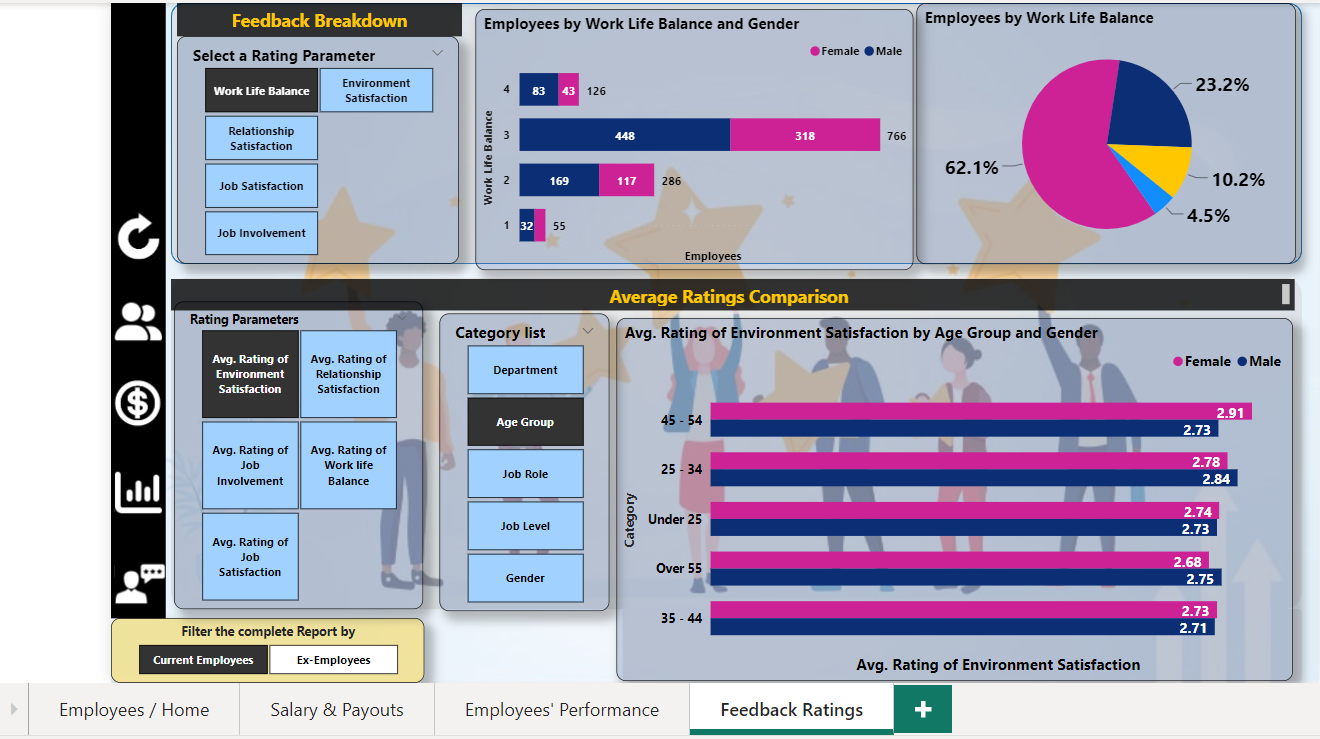

Layout of this report page (visuals, bound fields, positions):
{"tool":"powerbi","page":{"name":"Feedback Ratings","canvas":[1280,720],"ordinal":3},"visuals":[{"type":"shape","box":[0,0,58.2,652],"z":0,"group":"g4"},{"type":"shape","box":[62,3.2,1198.3,276.7],"z":0,"group":"g3"},{"type":"slicer","fields":{"Values":["Set of Rating Matrices.Set of Rating Matrices"]},"box":[68.8,38.1,298.8,241.6],"z":0,"group":"g2"},{"type":"actionButton","box":[0,215.2,58.2,64.7],"z":0,"group":"g1"},{"type":"slicer","title":"Filter the complete Report by","fields":{"Values":["Employees.attrition label"]},"box":[0,651.7,331.7,68.3],"z":0},{"type":"textbox","box":[68.6,3.2,301.7,35],"z":1000,"group":"g3"},{"type":"pieChart","fields":{"Category":["Ratings.Work Life Balance (Rating)"],"Y":["Measures Table.#1 Total Employees"]},"box":[862.2,15,400.5,271.8],"z":1000,"group":"g2"},{"type":"group","id":"g1","title":"Group 6","box":[0,215.2,69.6,432],"z":1000,"group":"g4"},{"type":"actionButton","box":[0,309,58.2,58.2],"z":1000,"group":"g1"},{"type":"shape","box":[542.3,642.6,720,76.7],"z":1000,"group":"g5"},{"type":"group","id":"g2","title":"Group 1","box":[68.8,9.2,1193.9,277.6],"z":2000,"group":"g3"},{"type":"barChart","fields":{"Category":["Ratings.Work Life Balance (Rating)"],"Y":["Measures Table.#1 Total Employees"],"Series":["Employees.Gender"]},"box":[385.4,9.2,464.1,276.6],"z":2000,"group":"g2"},{"type":"shape","box":[64,290.9,1198.3,351.7],"z":2000,"group":"g5"},{"type":"actionButton","box":[0,396.4,58.2,56.6],"z":2000,"group":"g1"},{"type":"actionButton","box":[0,482.2,58.2,74.4],"z":3000,"group":"g1"},{"type":"group","id":"g3","title":"Feedback Breakdown","box":[62,3.2,1200.8,283.6],"z":4000},{"type":"actionButton","box":[0,585.7,69.6,61.5],"z":4000,"group":"g1"},{"type":"slicer","fields":{"Values":["#Parameter- Avg Ratings.#Parameter- Avg Ratings"]},"box":[66.7,316.2,263.8,325.8],"z":5000,"group":"g5"},{"type":"group","id":"g4","title":"Navigation Bar #group","box":[0,0,69.6,652],"z":6000},{"type":"slicer","fields":{"Values":["#Parameter- Category list.#Parameter- Category list"]},"box":[347.2,334,181.2,376.7],"z":7000,"group":"g5"},{"type":"clusteredBarChart","fields":{"Category":["Employees.Department"],"Y":["Measures Table.**Rating avg- Environment Satisfaction"],"Series":["Employees.Gender"]},"box":[542,329,720,389.4],"z":8000,"group":"g5"},{"type":"textbox","box":[63.6,292.3,1190.5,33],"z":9000,"group":"g5"},{"type":"group","id":"g5","title":"Group 2","box":[63.6,290.9,1198.7,428.3],"z":9001}]}

Visuals, with their boxes on the page's 1280x720 design canvas (x1, y1, x2, y2). These are canvas units, not pixel positions in the 1320x739 screenshot, which may show the page scaled, cropped or inside an application window:
shape: (x1=0, y1=0, x2=58, y2=652)
shape: (x1=62, y1=3, x2=1260, y2=280)
slicer - Set of Rating Matrices.Set of Rating Matrices: (x1=69, y1=38, x2=368, y2=280)
actionButton: (x1=0, y1=215, x2=58, y2=280)
"Filter the complete Report by" slicer: (x1=0, y1=652, x2=332, y2=720)
textbox: (x1=69, y1=3, x2=370, y2=38)
pieChart - Ratings.Work Life Balance (Rating) x Measures Table.#1 Total Employees: (x1=862, y1=15, x2=1263, y2=287)
"Group 6" group: (x1=0, y1=215, x2=70, y2=647)
actionButton: (x1=0, y1=309, x2=58, y2=367)
shape: (x1=542, y1=643, x2=1262, y2=719)
"Group 1" group: (x1=69, y1=9, x2=1263, y2=287)
barChart - Ratings.Work Life Balance (Rating) x Measures Table.#1 Total Employees: (x1=385, y1=9, x2=850, y2=286)
shape: (x1=64, y1=291, x2=1262, y2=643)
actionButton: (x1=0, y1=396, x2=58, y2=453)
actionButton: (x1=0, y1=482, x2=58, y2=557)
"Feedback Breakdown" group: (x1=62, y1=3, x2=1263, y2=287)
actionButton: (x1=0, y1=586, x2=70, y2=647)
slicer - #Parameter- Avg Ratings.#Parameter- Avg Ratings: (x1=67, y1=316, x2=330, y2=642)
"Navigation Bar #group" group: (x1=0, y1=0, x2=70, y2=652)
slicer - #Parameter- Category list.#Parameter- Category list: (x1=347, y1=334, x2=528, y2=711)
clusteredBarChart - Employees.Department x Measures Table.**Rating avg- Environment Satisfaction: (x1=542, y1=329, x2=1262, y2=718)
textbox: (x1=64, y1=292, x2=1254, y2=325)
"Group 2" group: (x1=64, y1=291, x2=1262, y2=719)
